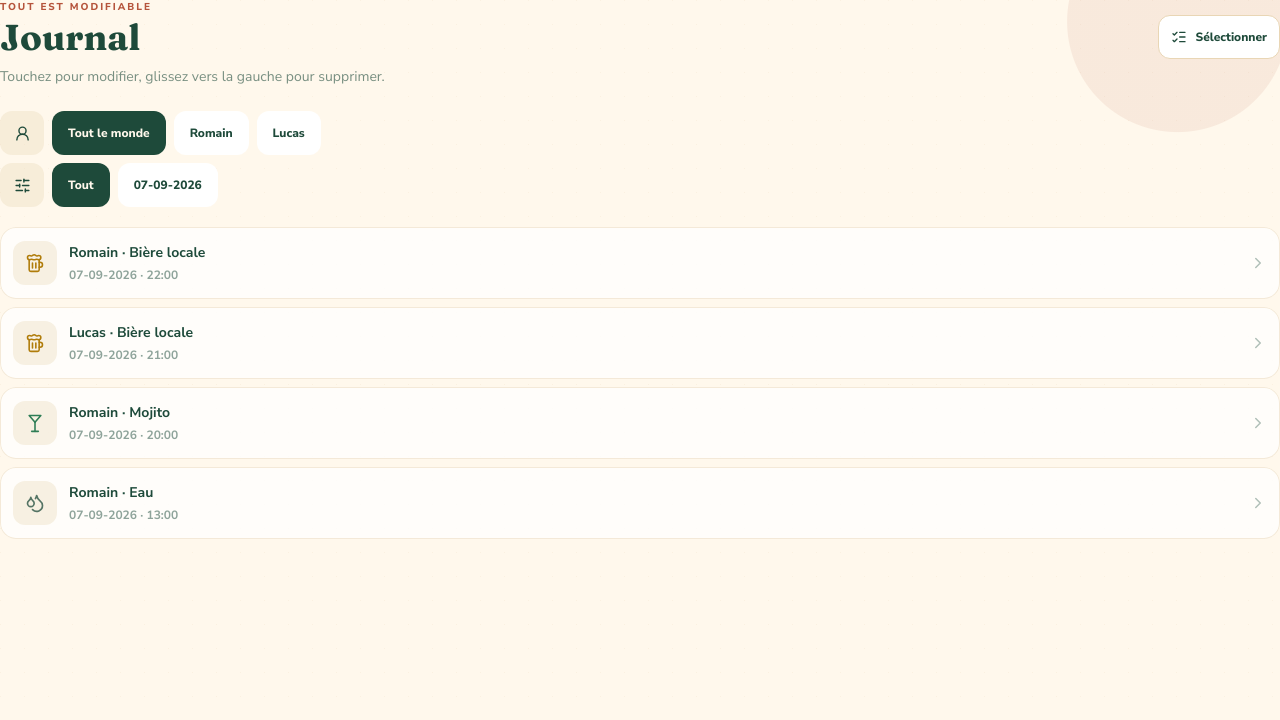
Scenario: sélection multiple du Journal › supprime en une fois les verres et les eaux sélectionnés
Step 1. Click the button "Sélectionner" → [1219, 37], box [1158,15,1279,59]
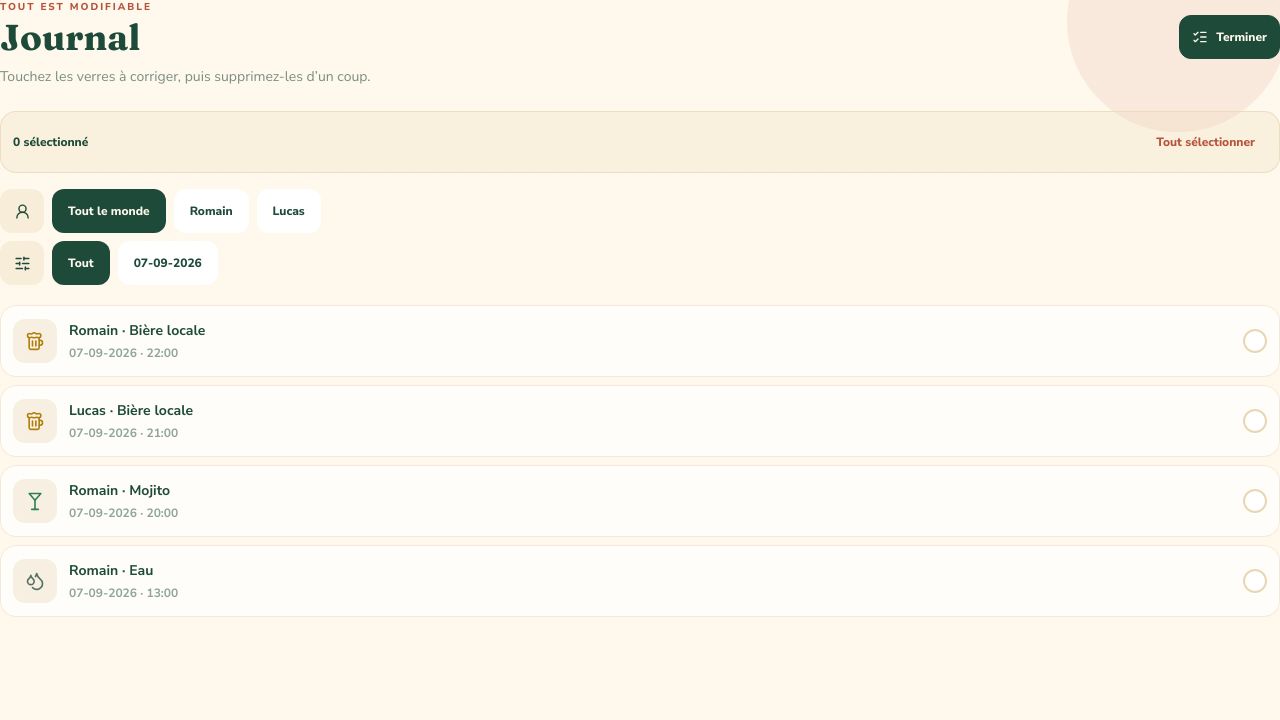
Step 2. Click the checkbox "Romain · Mojito" → [35, 501], box [0,465,1279,537]
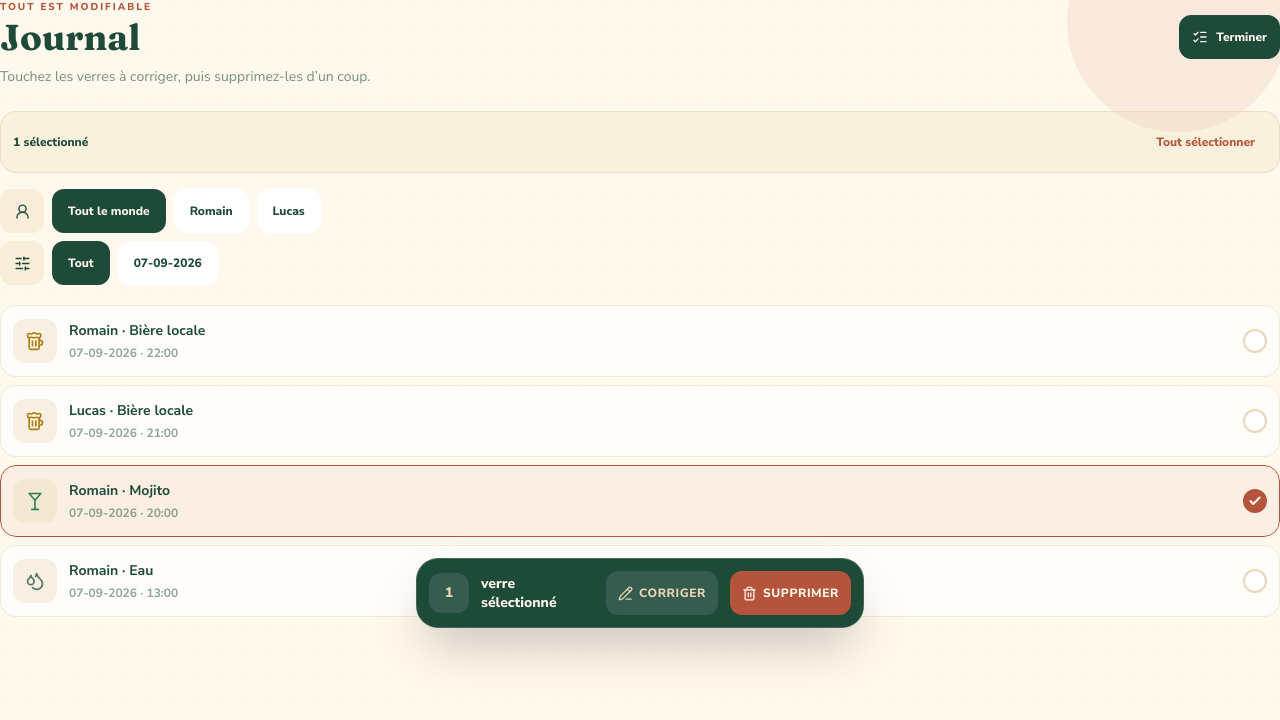
Step 3. Click the checkbox "Romain · Bière locale" → [35, 341], box [0,305,1279,377]
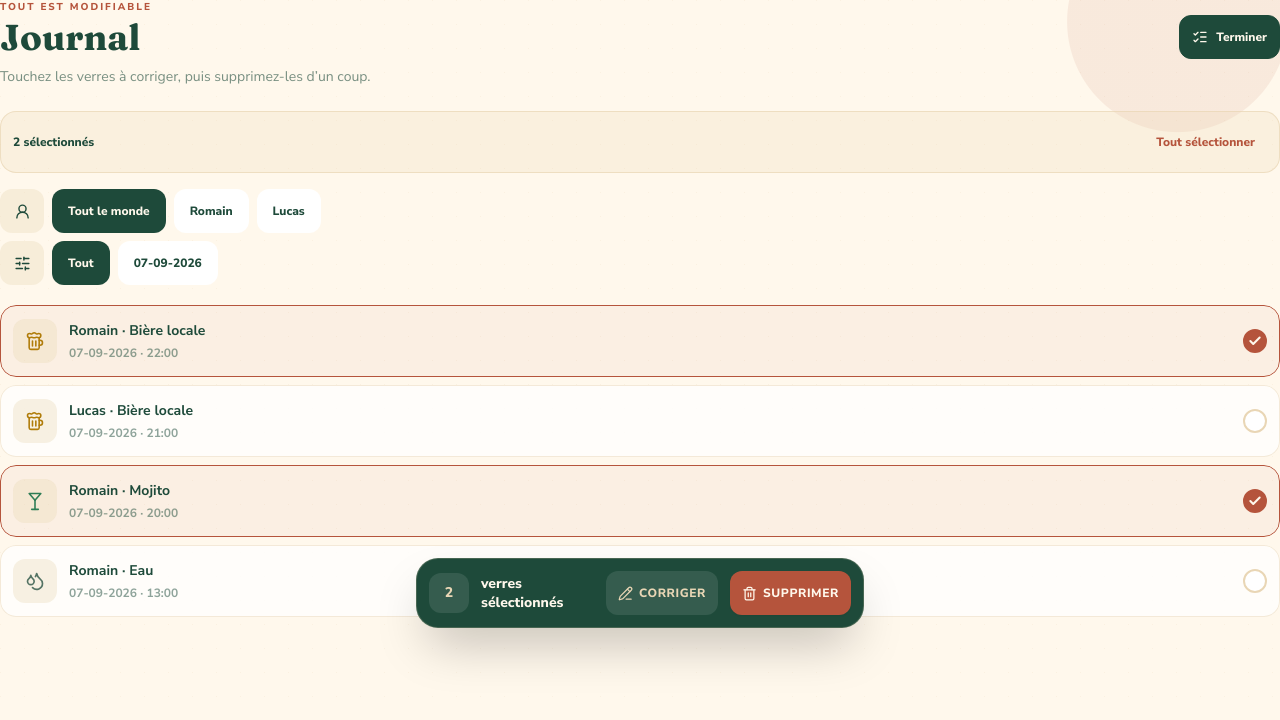
Step 4. Click the checkbox "Romain · Eau" → [35, 581], box [0,545,1279,617]
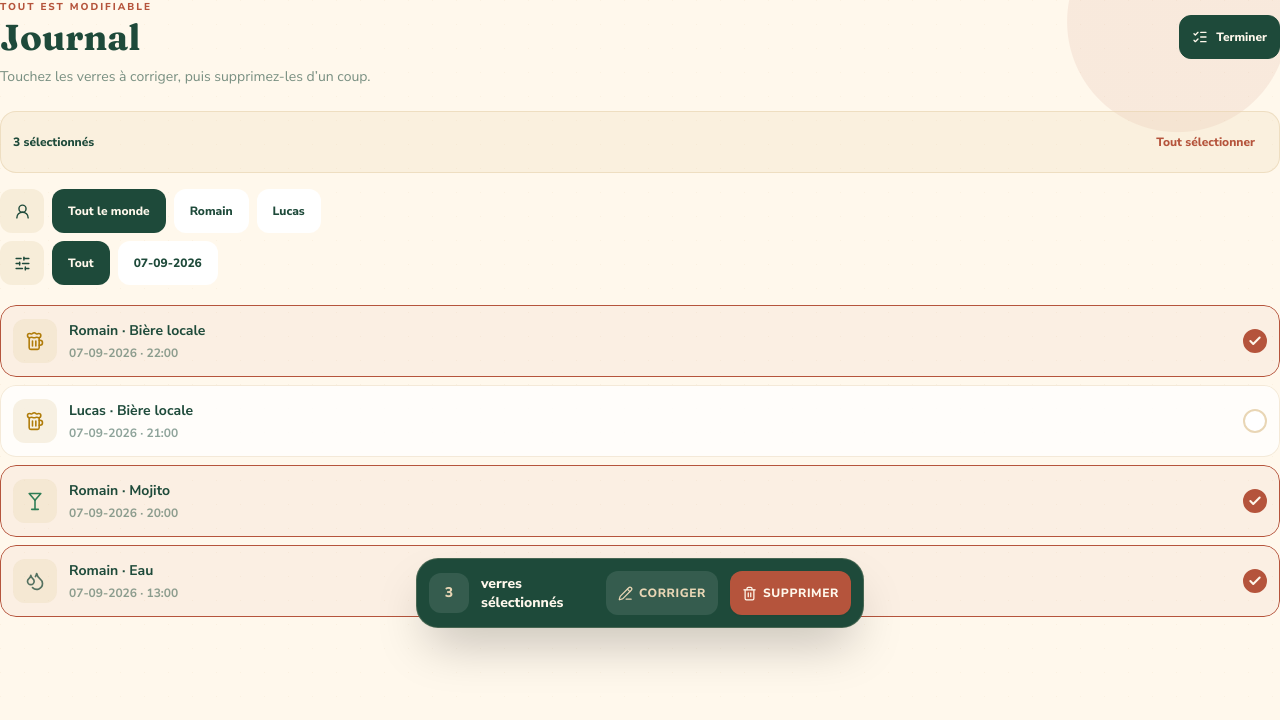
Check: the text "3 sélectionnés" is shown, box [13,134,94,150]
Step 5. Click the button "Supprimer" → [790, 593], box [730,571,851,615]
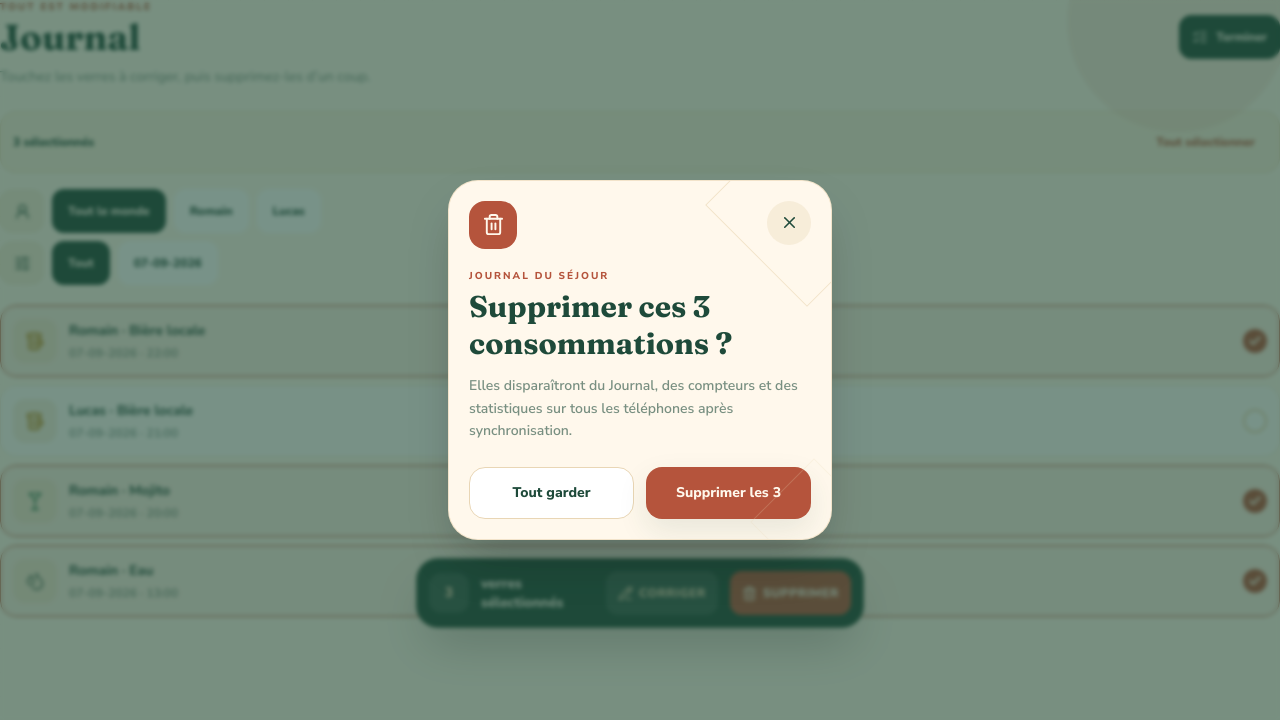
Step 6. Click the button "Supprimer les 3" → [728, 493], box [646,467,811,519]
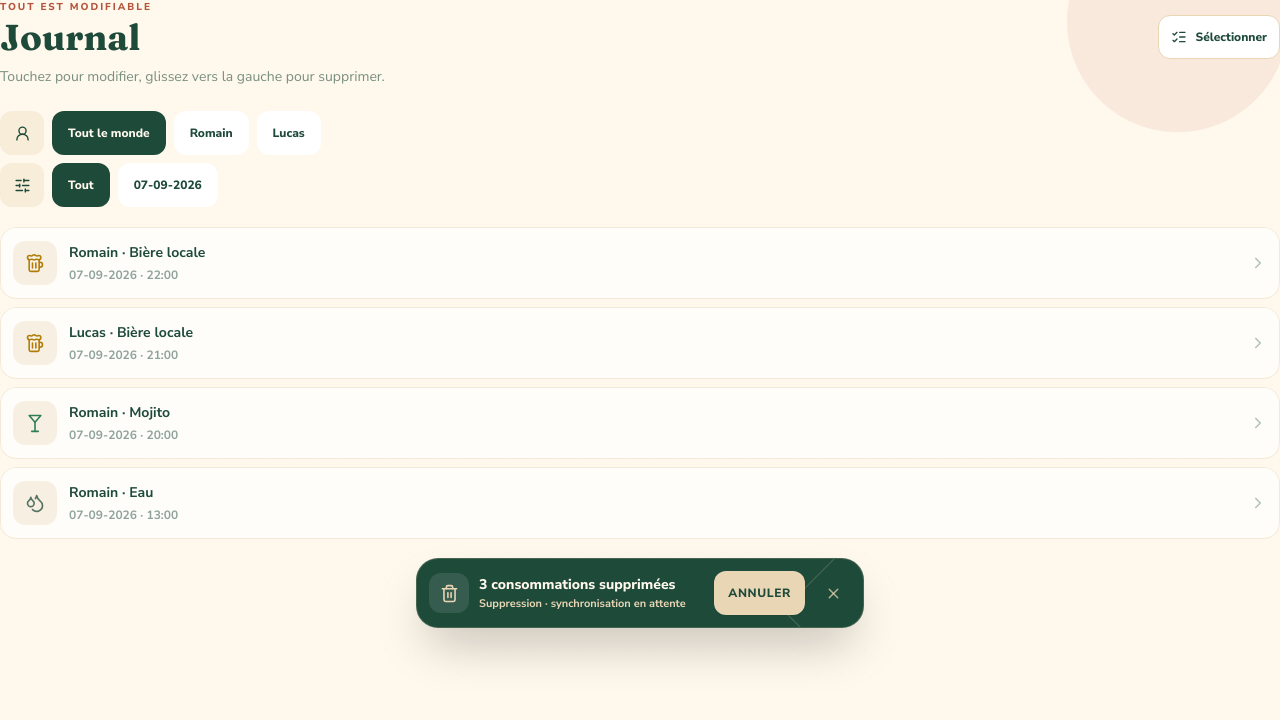
Check: the text "3 consommations supprimées" is shown, box [479,575,704,594]
